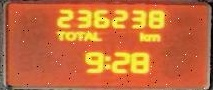2: (110, 49, 128, 75), (54, 6, 72, 28), (111, 8, 126, 27)
3: (75, 7, 91, 27), (131, 7, 145, 28)
6: (93, 8, 109, 28)
8: (129, 51, 150, 73), (148, 7, 165, 28)
9: (84, 49, 103, 72)
X: (103, 53, 110, 71), (64, 30, 75, 41), (92, 30, 102, 41), (75, 30, 84, 42), (147, 33, 160, 41), (55, 30, 64, 41), (83, 31, 92, 40), (138, 31, 146, 40)
